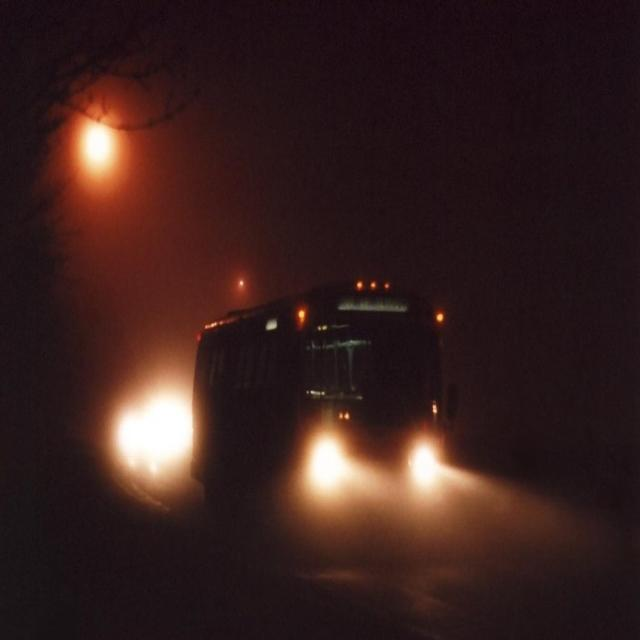Bus: (182, 272, 464, 544)
